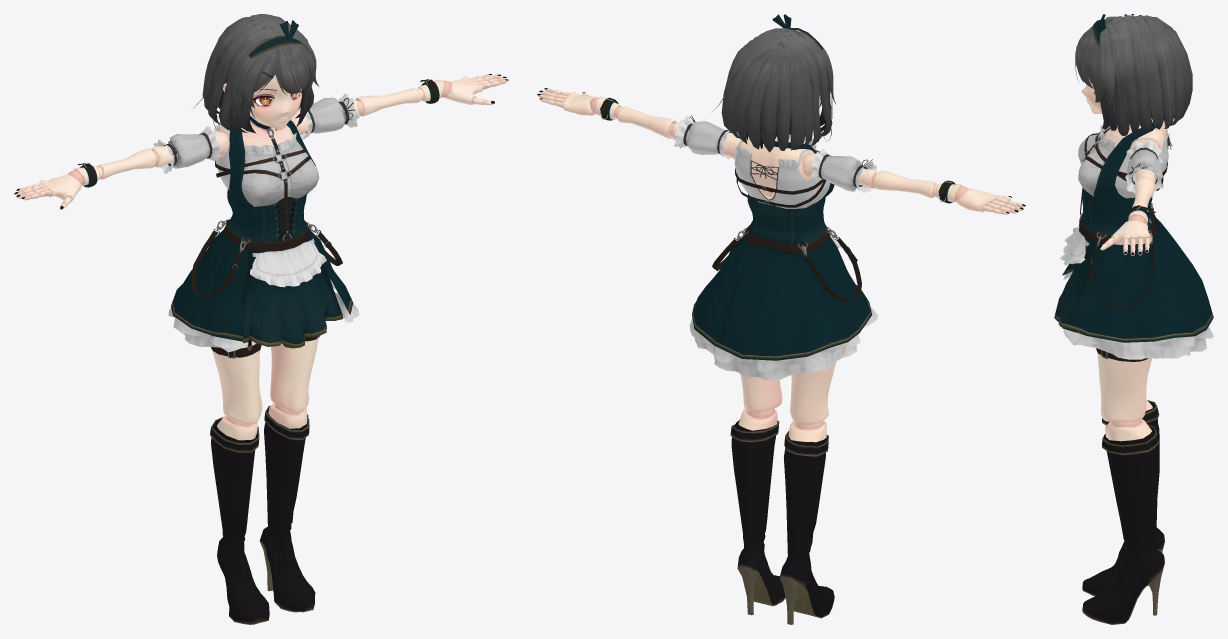
Rendered from girl.glb.
3 views of the same model, side by side, from view 1: azimuth 30°, elevation 25°; view 2: azimuth 150°, elevation 25°; view 3: azimuth 270°, elevation 25° (orthographic).
Parts seen in each view (by area): view 1: Clothes, Body, Hair; view 2: Clothes, Body, Hair; view 3: Clothes, Hair, Body.
Part boxes in pixels (x1,y1,x2,y2): Clothes: [78, 20, 439, 624]; Body: [14, 74, 508, 440]; Hair: [193, 14, 319, 133]; Clothes: [600, 14, 955, 624]; Body: [537, 88, 1025, 442]; Hair: [712, 28, 835, 152]; Clothes: [1054, 14, 1213, 624]; Hair: [1075, 15, 1192, 137]; Body: [1081, 14, 1166, 441].
Bounding box in the file's own units: 1.36 × 1.58 × 0.382.
4 materials, 3 textured.
